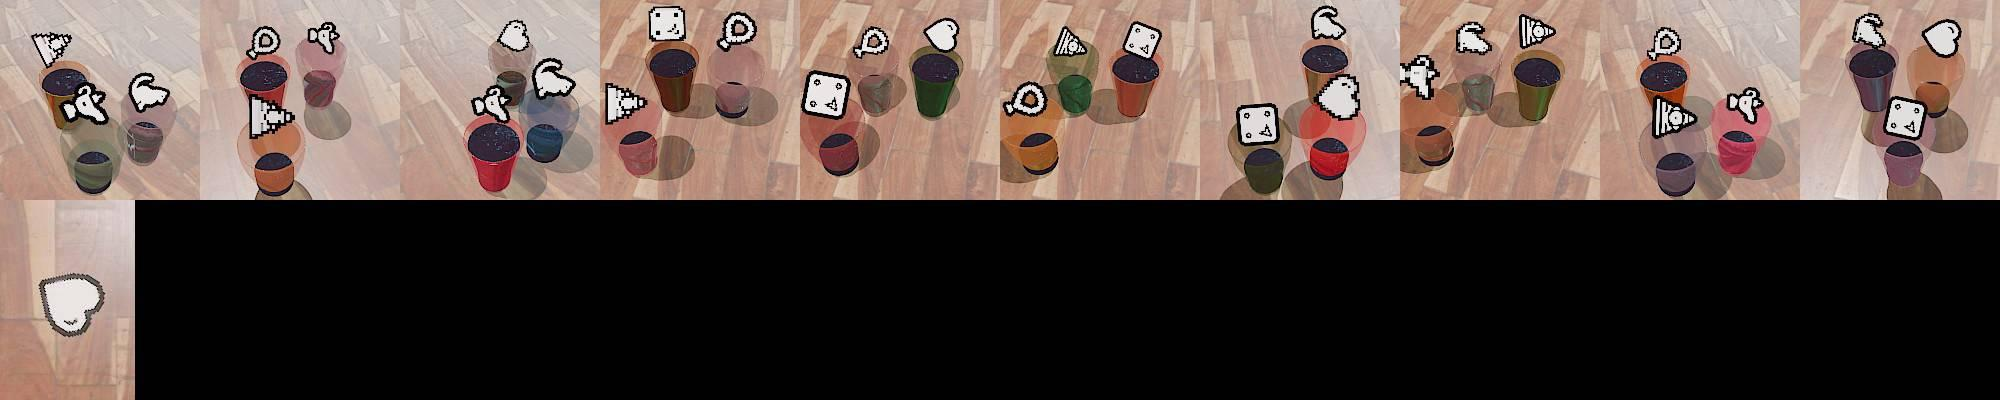icon: (37, 273, 106, 338), (801, 70, 851, 118), (1315, 73, 1362, 120), (249, 93, 297, 139), (1652, 93, 1698, 138), (1884, 96, 1929, 140), (531, 56, 575, 101), (65, 83, 111, 125), (1401, 54, 1441, 101), (469, 82, 514, 124), (1236, 102, 1278, 145), (129, 71, 172, 112), (605, 83, 648, 124), (1003, 80, 1047, 118), (716, 11, 758, 51), (1921, 19, 1962, 59), (1122, 20, 1162, 61), (31, 31, 73, 69), (1519, 14, 1557, 52), (648, 5, 687, 42), (1849, 13, 1886, 50), (1726, 87, 1763, 122), (922, 18, 959, 54), (1455, 20, 1494, 55), (1647, 25, 1681, 62), (1310, 4, 1344, 41), (852, 25, 890, 59), (1051, 25, 1088, 59), (306, 20, 341, 55), (495, 19, 531, 52), (247, 25, 283, 59)
